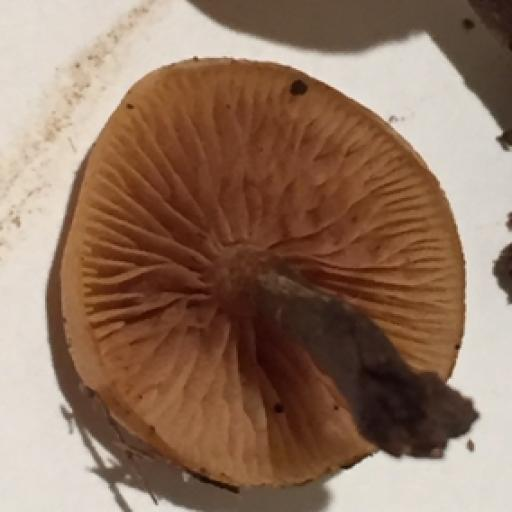mushroom: (49, 51, 486, 502)
